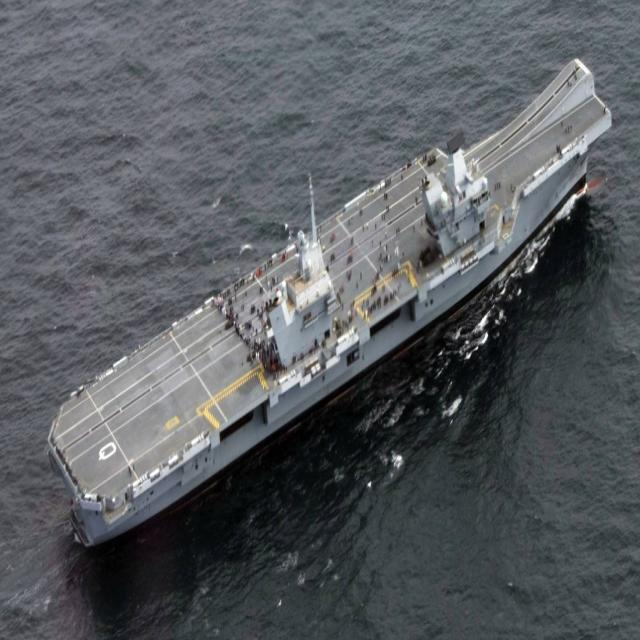Portanaves: (46, 46, 618, 554)
